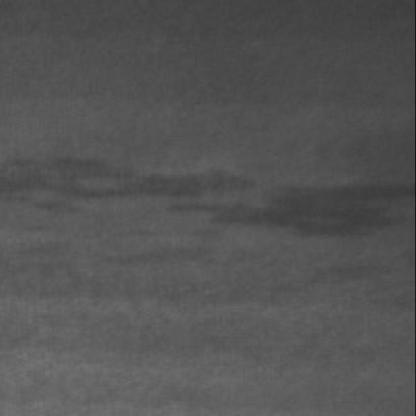inclusion: (10, 158, 416, 244)
